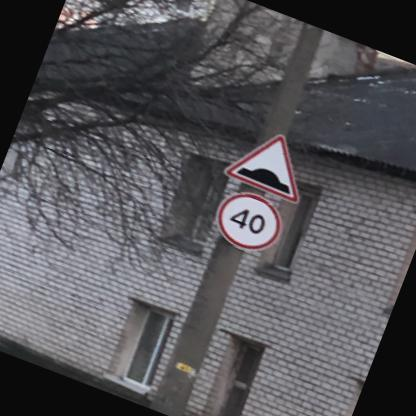speedlimit: (208, 182, 288, 257)
